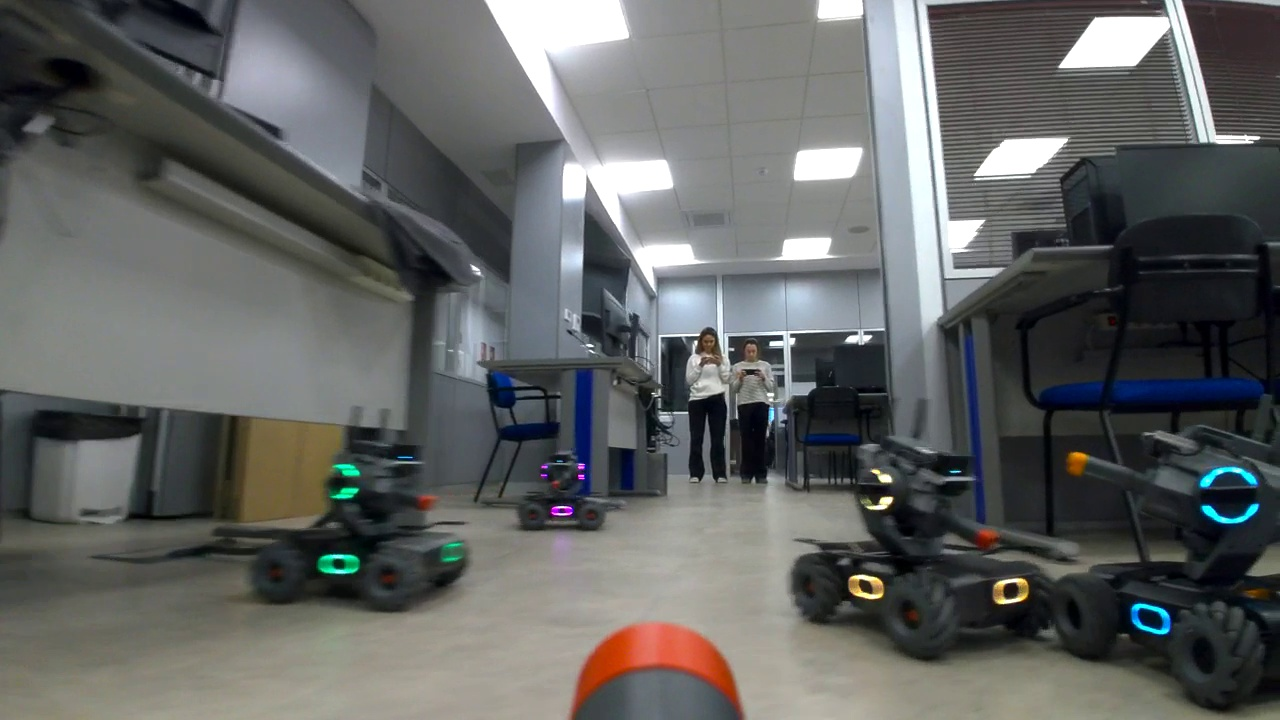robot: (1055, 423, 1277, 717), (785, 435, 1062, 667), (243, 441, 470, 614), (516, 449, 606, 534)
